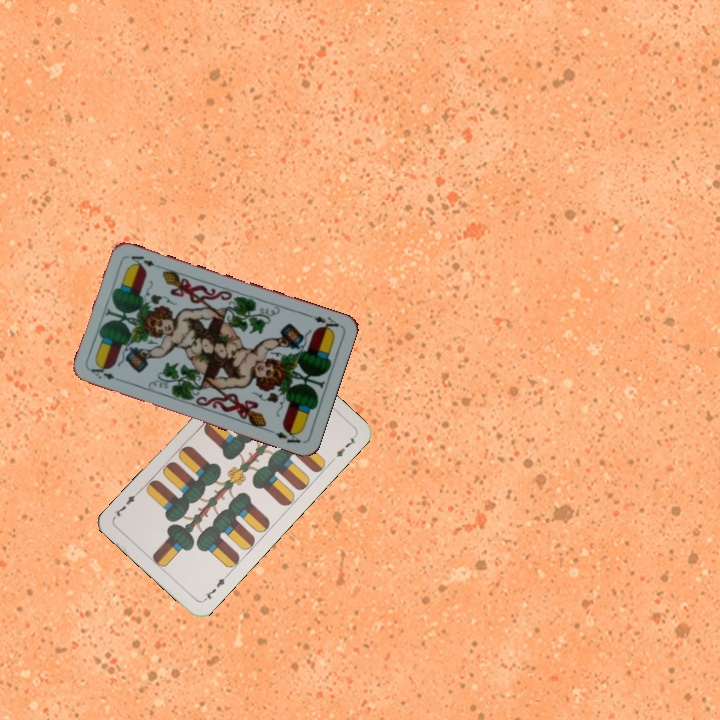E7: (199, 571, 231, 604)
EA: (303, 310, 341, 334), (87, 362, 126, 385)
